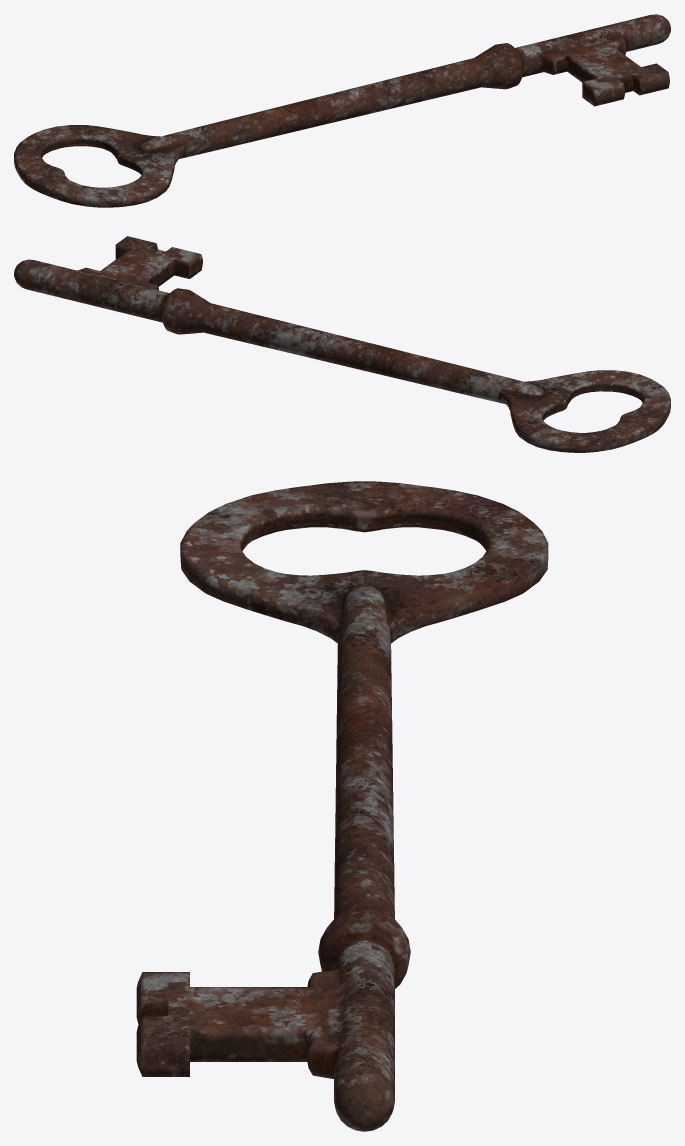
The model's file is key.glb.
3 renders of one model, top to bottom at view 1: azimuth 30°, elevation 25°; view 2: azimuth 150°, elevation 25°; view 3: azimuth 270°, elevation 25°, orthographic. The views are drawn at different scales.
Visible parts, largest first — view 1: Rusty Key; view 2: Rusty Key; view 3: Rusty Key.
Part boxes in pixels (bbox=[...]): Rusty Key: bbox=[14, 14, 670, 207]; Rusty Key: bbox=[14, 236, 670, 452]; Rusty Key: bbox=[136, 481, 548, 1131].
Bounding box in the file's own units: 0.07 × 0.00439 × 0.0195.
1 material, 1 textured.
